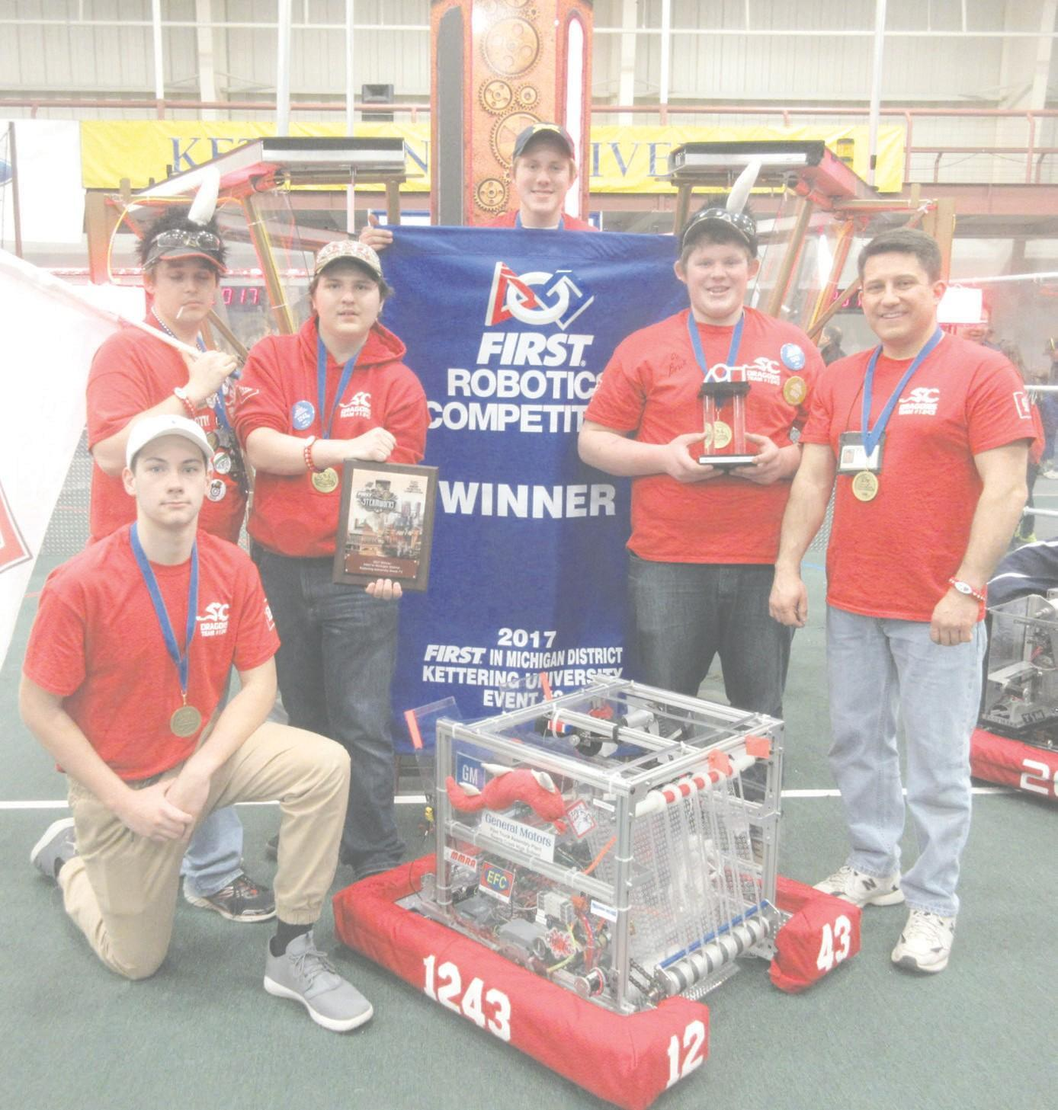robot: (302, 654, 884, 1105), (942, 491, 1058, 817)
